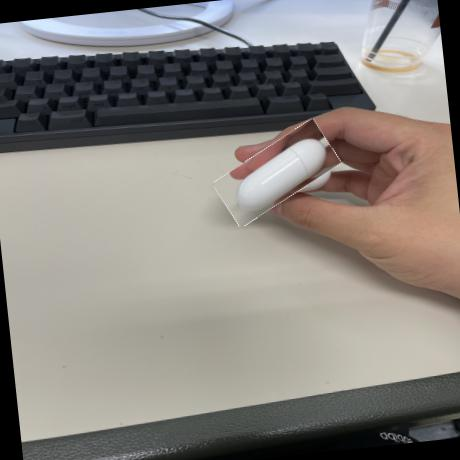airpod3: (210, 128, 342, 218)
